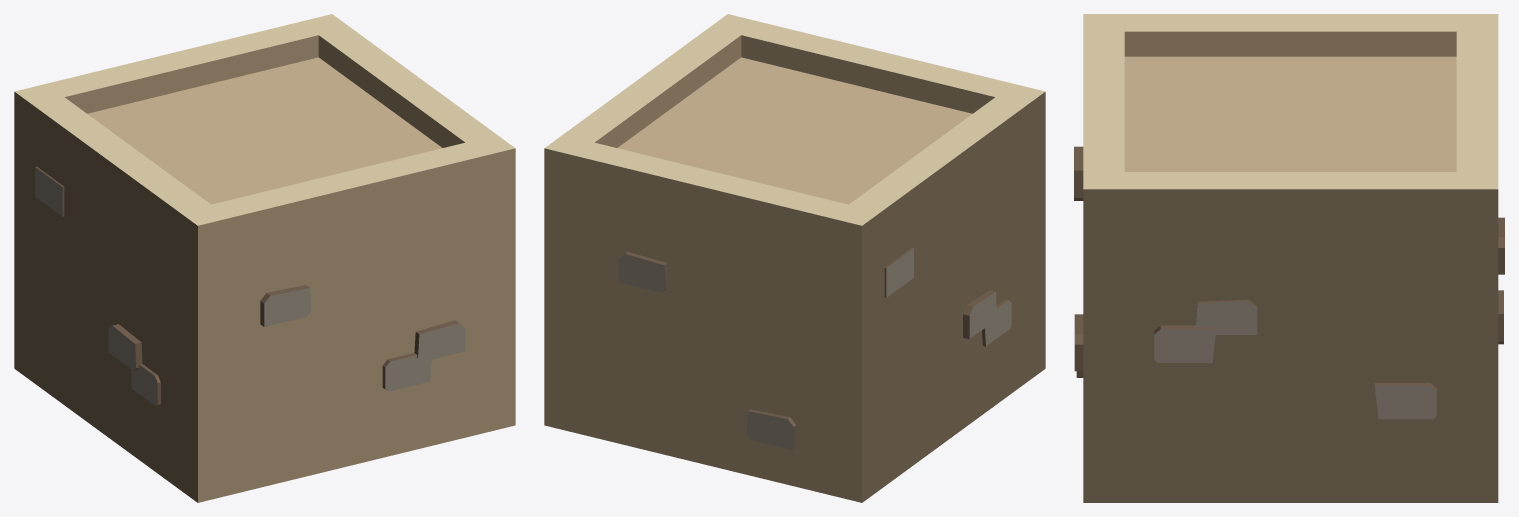
The model's file is TB_D_Bd_Body_Small.FBX.
The picture shows the model from 3 angles, left to right: view 1: azimuth 30°, elevation 25°; view 2: azimuth 150°, elevation 25°; view 3: azimuth 270°, elevation 25°; orthographic projection. The views are drawn at different scales.
Parts seen in each view (by area): view 1: TB_D_Bd_Body_Small; view 2: TB_D_Bd_Body_Small; view 3: TB_D_Bd_Body_Small.
Boxes of the visible parts, <box> form: TB_D_Bd_Body_Small: <box>14,14,515,502</box>; TB_D_Bd_Body_Small: <box>544,14,1045,502</box>; TB_D_Bd_Body_Small: <box>1074,14,1504,502</box>.
Bounding box in the file's own units: 3.13 × 2.5 × 3.11.
